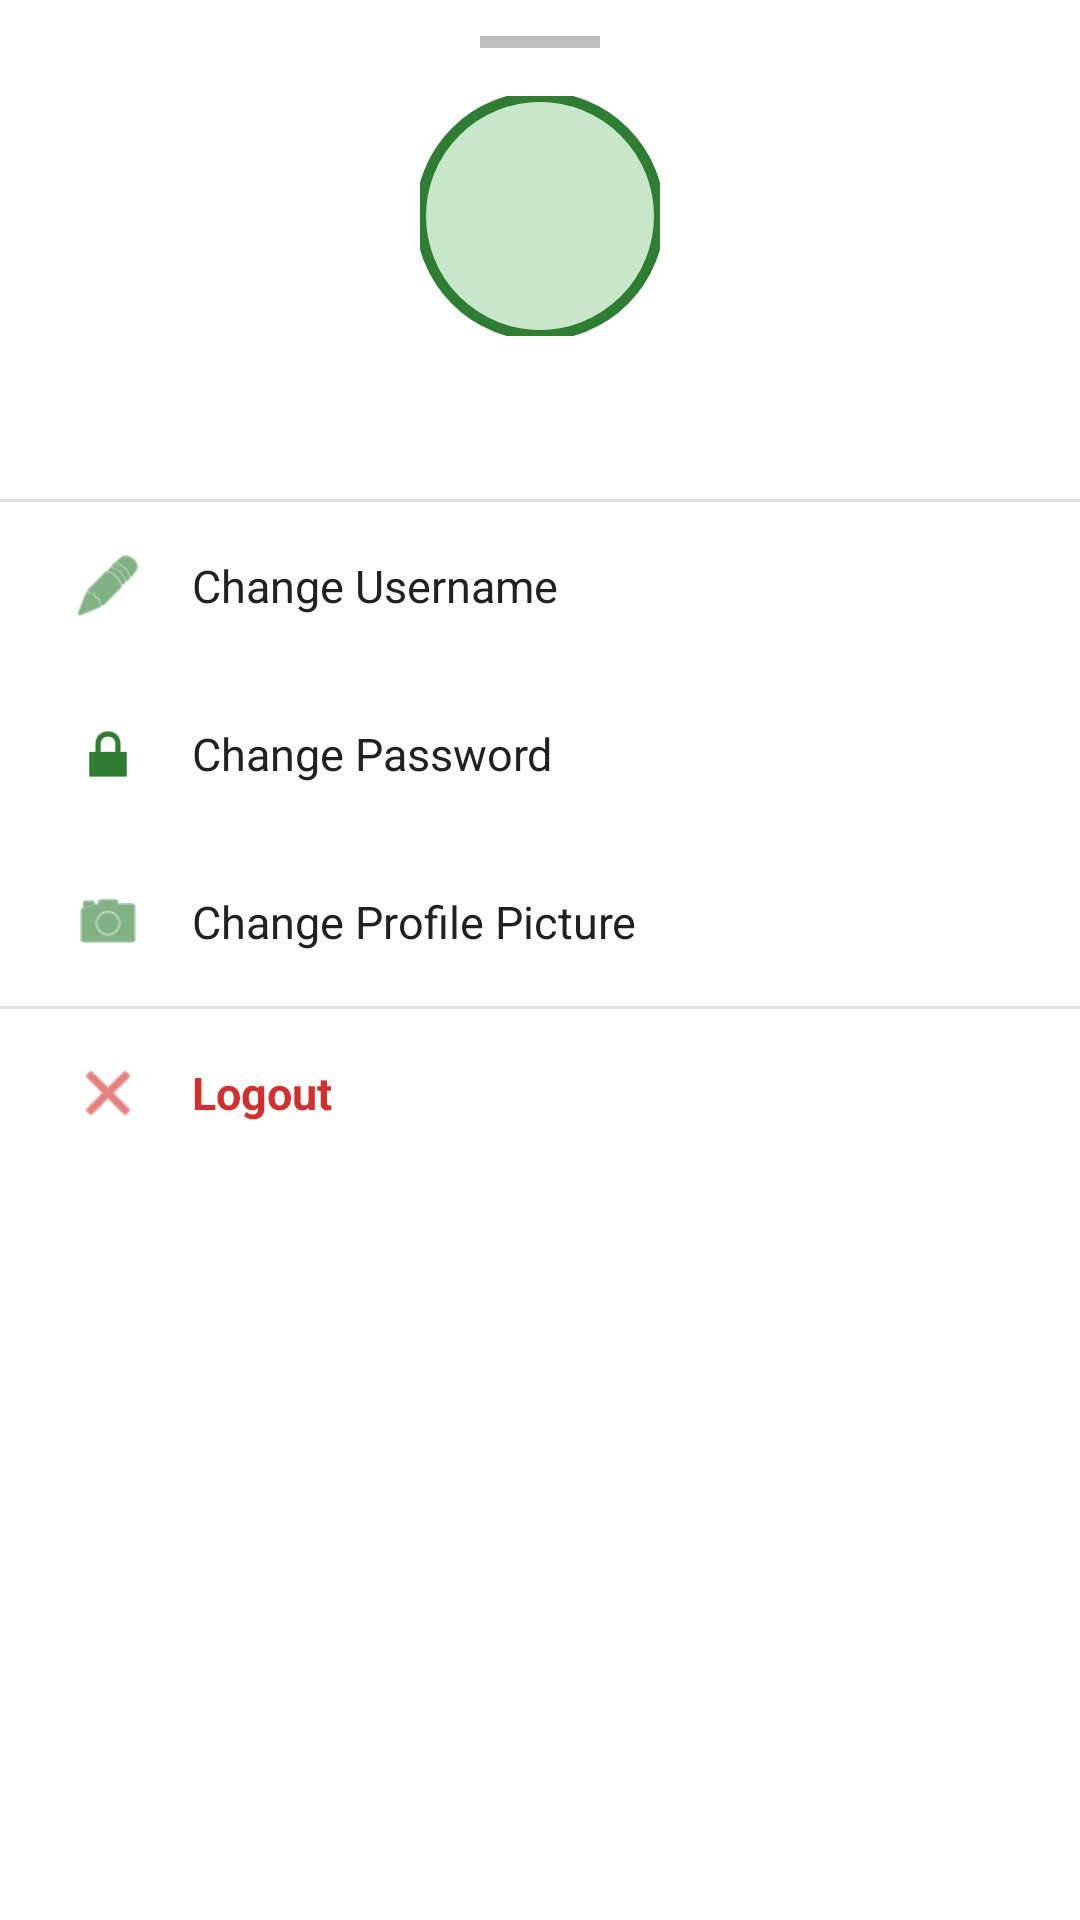

Icons on this 1080 x 1920 Android screen, each with the point to tap as (x=x, y=y):
camera: (x=108, y=921)
close clear cancel: (x=108, y=1093)
edit: (x=107, y=585)
lock: (x=108, y=754)
